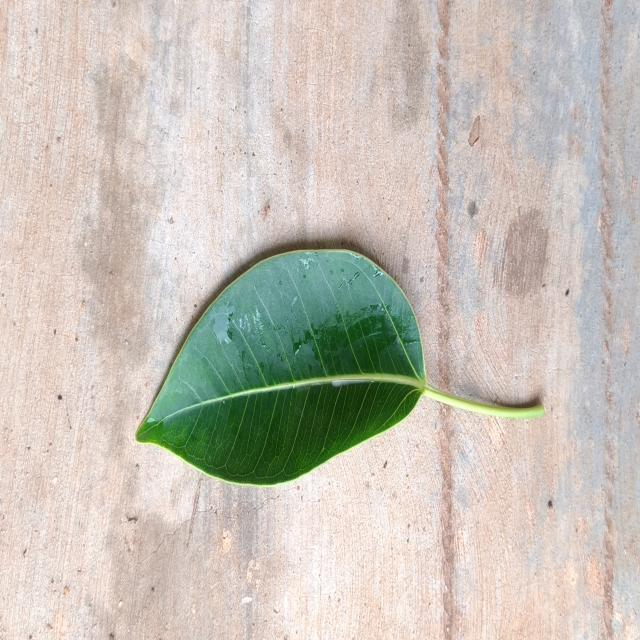camphor: (136, 249, 451, 487)
